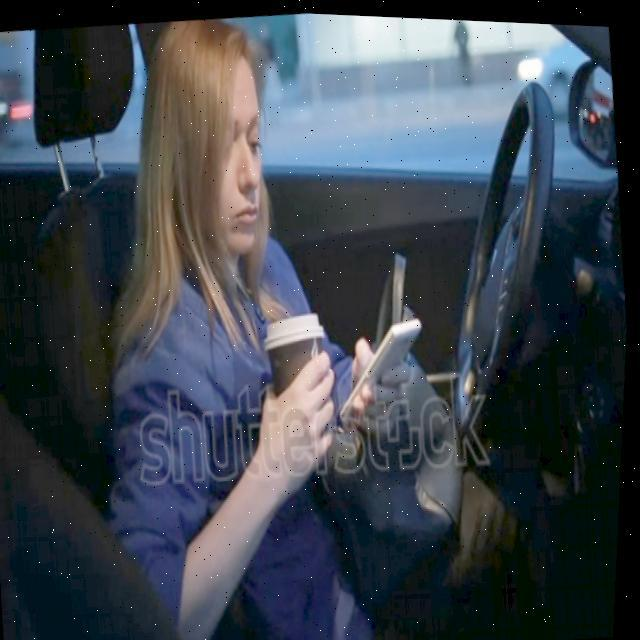Drinking: (258, 307, 340, 462)
PhoneCall: (332, 314, 433, 429)
